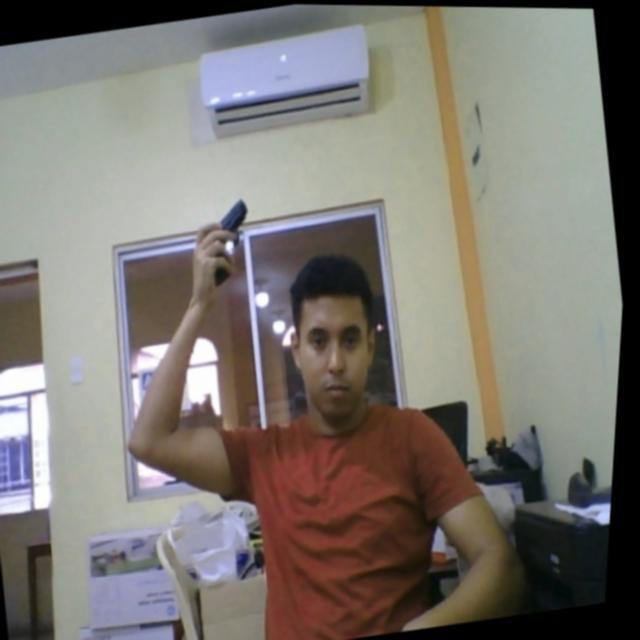weapon: (204, 195, 263, 288)
